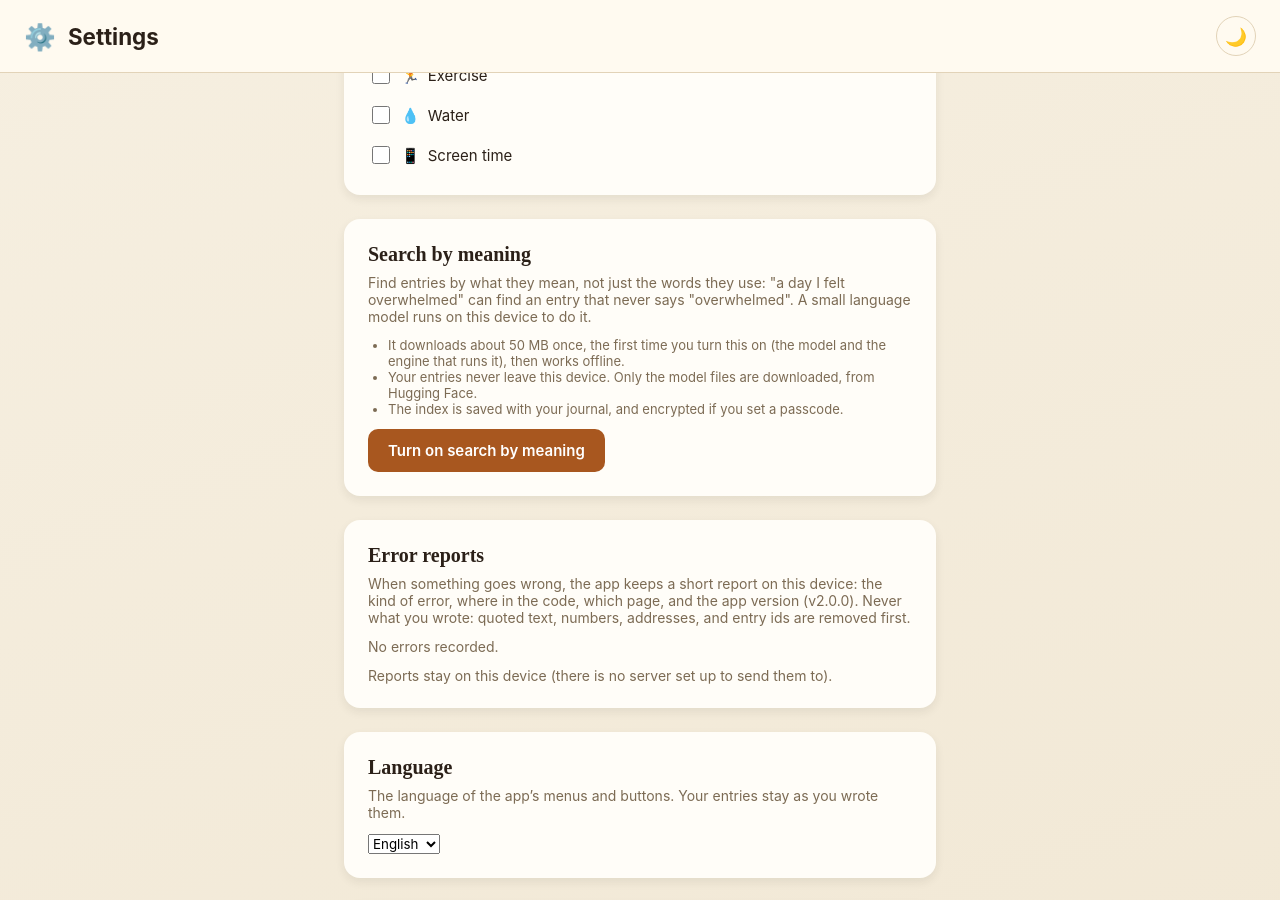
Test: Search by meaning › turns on, builds the index, and saves it with the journal
(page scrolled)
Click the button "Turn on search by meaning" at (486, 450), box x1=368 y1=429 x2=605 y2=472
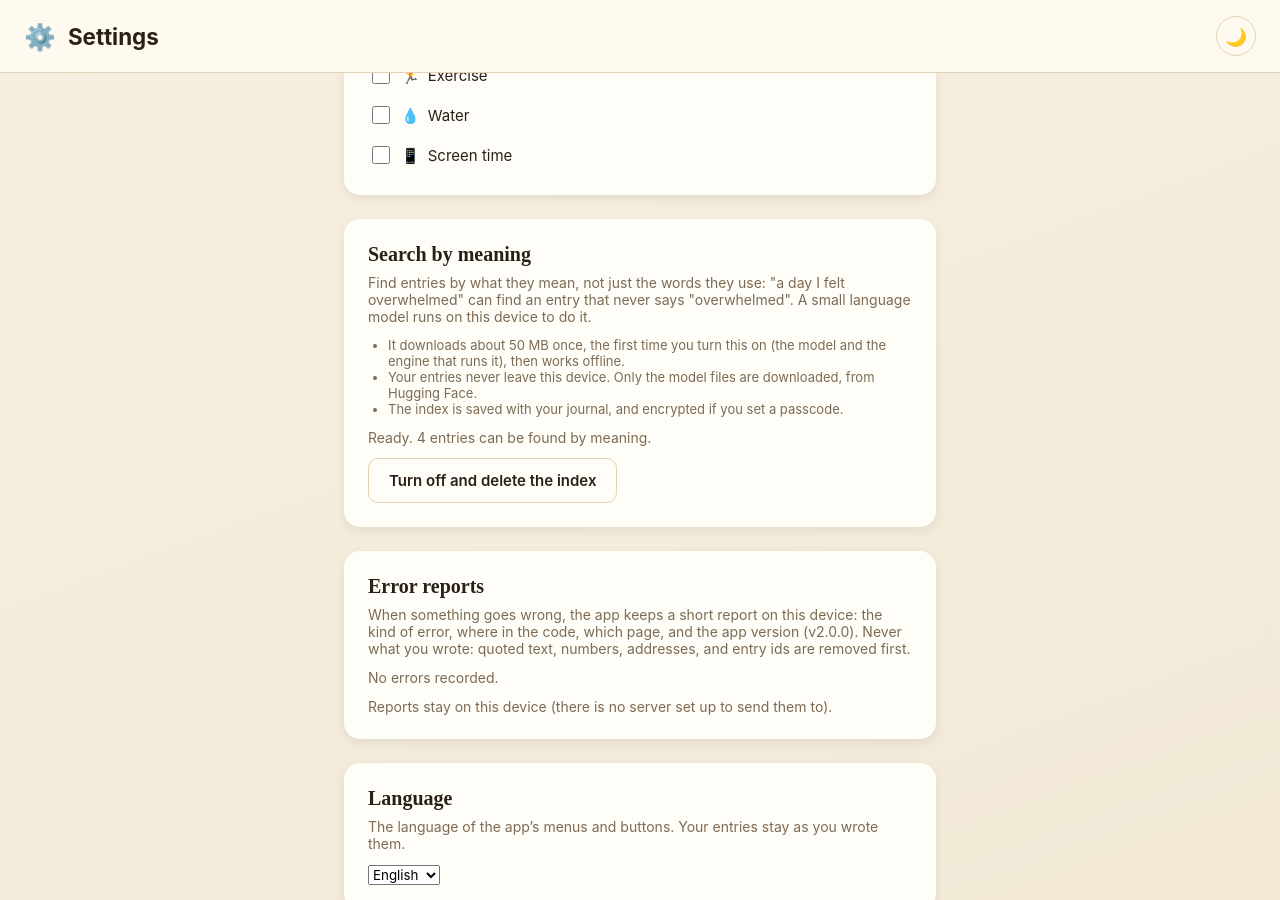
Result: the text "Ready. 4 entries can be found by meaning." is shown at x1=368 y1=429 x2=651 y2=446
